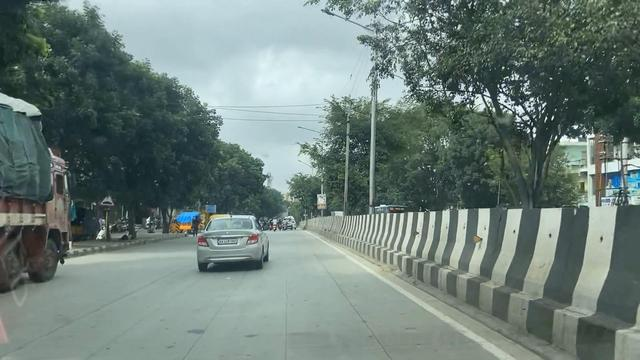LMV: (189, 212, 268, 272)
